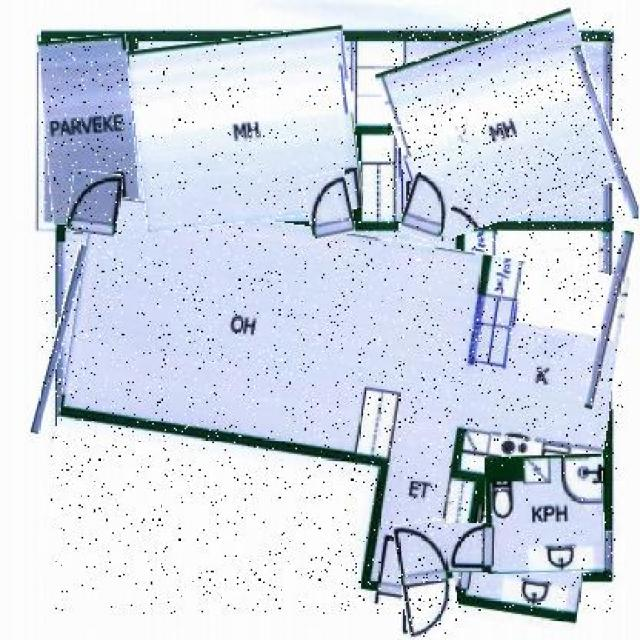door: (397, 520, 458, 637), (69, 171, 122, 235), (304, 171, 354, 237), (403, 176, 452, 242), (448, 523, 500, 572)
window: (588, 43, 628, 220), (41, 244, 76, 436), (594, 231, 624, 409), (606, 531, 612, 572)
zone: (49, 212, 617, 614), (388, 22, 615, 229), (132, 31, 358, 226), (41, 35, 137, 223), (486, 454, 603, 574)
